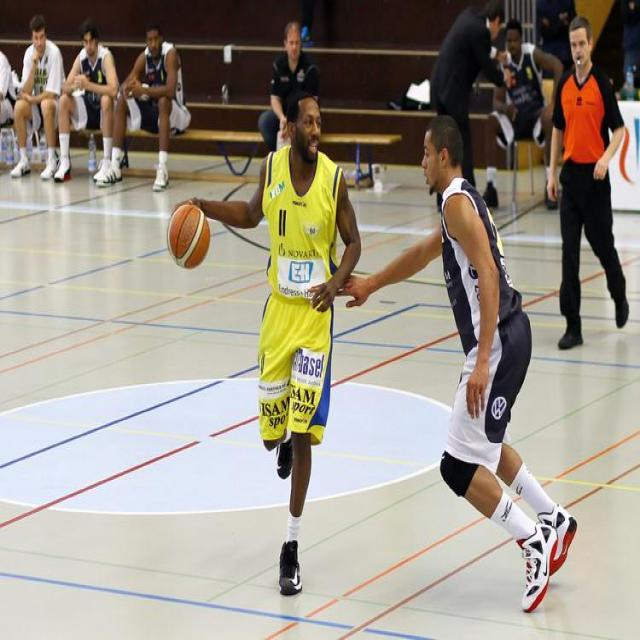rim: (168, 202, 211, 268)
